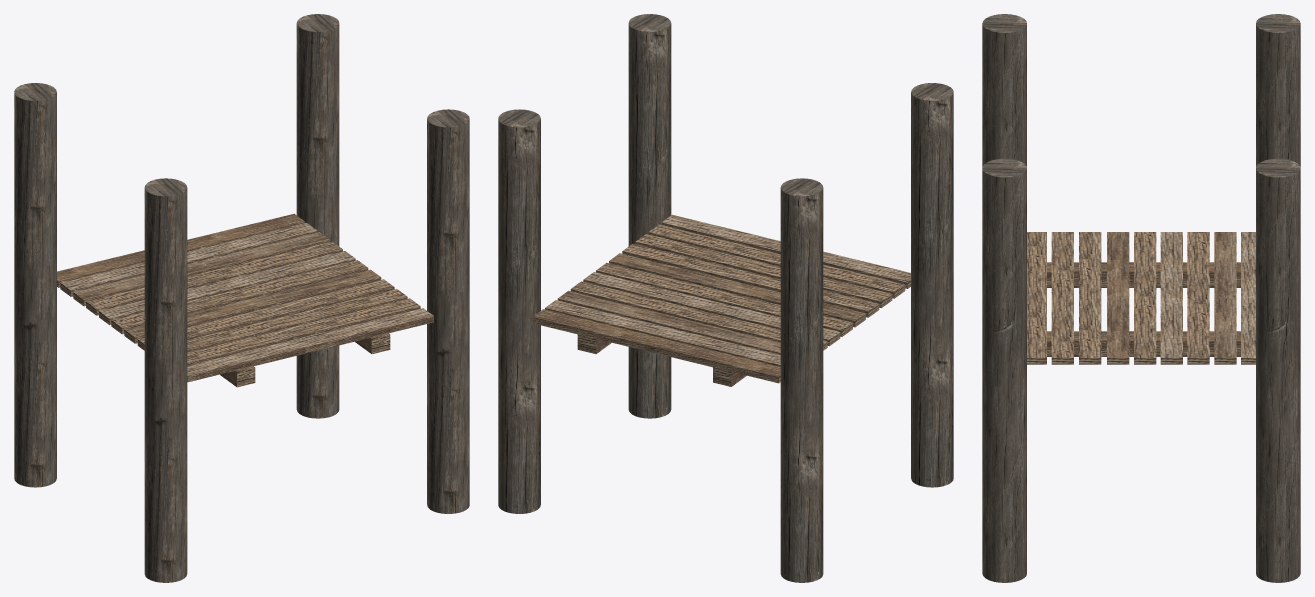
Rendered from PuenteCompleto .fbx.
3 renders of one model, left to right at view 1: azimuth 30°, elevation 25°; view 2: azimuth 150°, elevation 25°; view 3: azimuth 270°, elevation 25°, orthographic. The views are drawn at different scales.
Visible parts, largest first — view 1: Piso 4x4, Cylinder.002, Cylinder, Cylinder.003, Cylinder.001; view 2: Piso 4x4, Cylinder, Cylinder.002, Cylinder.001, Cylinder.003; view 3: Piso 4x4, Cylinder.001, Cylinder.003, Cylinder, Cylinder.002.
Boxes of the visible parts, box(x1,y1,x2,y2) form: Piso 4x4: box(57, 213, 433, 387); Cylinder.002: box(144, 178, 187, 582); Cylinder: box(14, 83, 56, 487); Cylinder.003: box(427, 109, 469, 513); Cylinder.001: box(296, 14, 339, 418); Piso 4x4: box(532, 214, 910, 386); Cylinder: box(780, 178, 823, 582); Cylinder.002: box(911, 83, 953, 487); Cylinder.001: box(498, 109, 540, 513); Cylinder.003: box(628, 14, 671, 418); Piso 4x4: box(1027, 232, 1255, 364); Cylinder.001: box(1256, 158, 1300, 582); Cylinder.003: box(982, 158, 1026, 582); Cylinder: box(1256, 14, 1300, 167); Cylinder.002: box(982, 14, 1026, 167).
Size of the model in its own units: 519 by 600 by 427.
2 materials, 2 textured.
